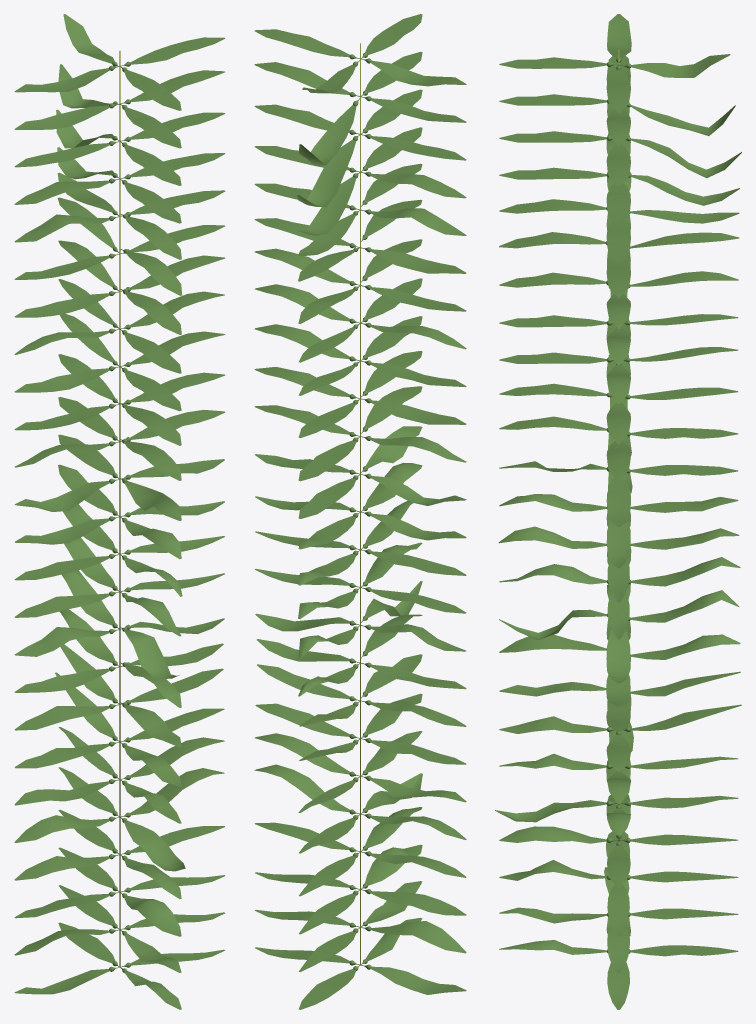
The model's file is Final Kelp.fbx.
3 renders of one model, left to right at view 1: azimuth 30°, elevation 25°; view 2: azimuth 150°, elevation 25°; view 3: azimuth 270°, elevation 25°, orthographic. The views are drawn at different scales.
Parts seen in each view (by area): view 1: Algas; view 2: Algas; view 3: Algas.
Part boxes in pixels (box(x1,y1,x2,y2)): Algas: box(14, 14, 225, 1009); Algas: box(254, 14, 466, 1009); Algas: box(495, 14, 741, 1009).
Bounding box in the file's own units: 2401 × 10101 × 2481.
